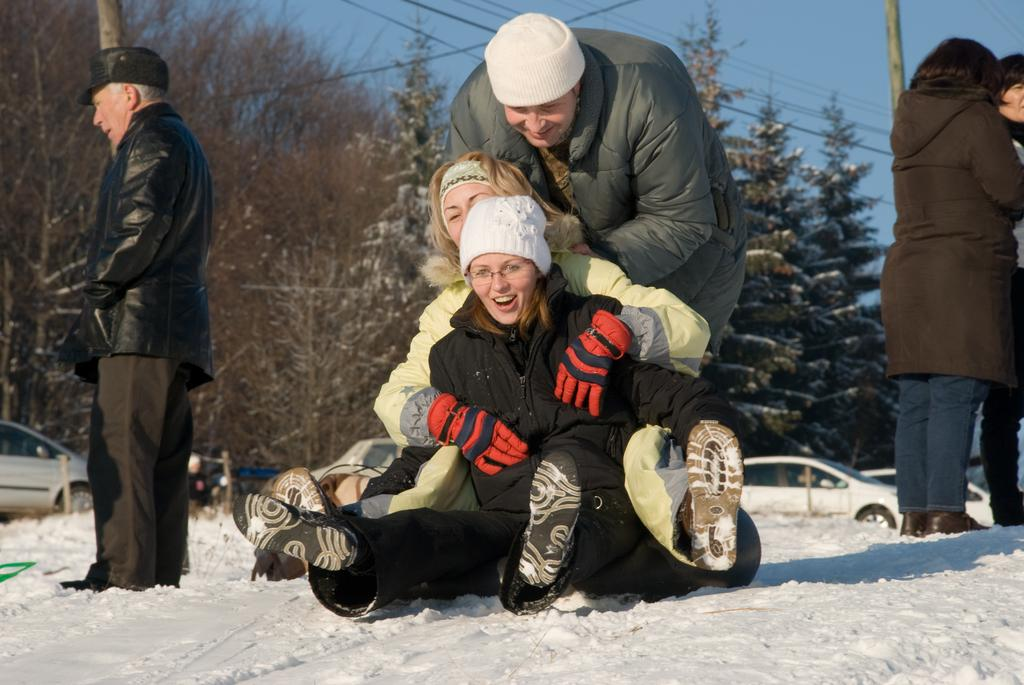Hat: (75, 45, 167, 106)
